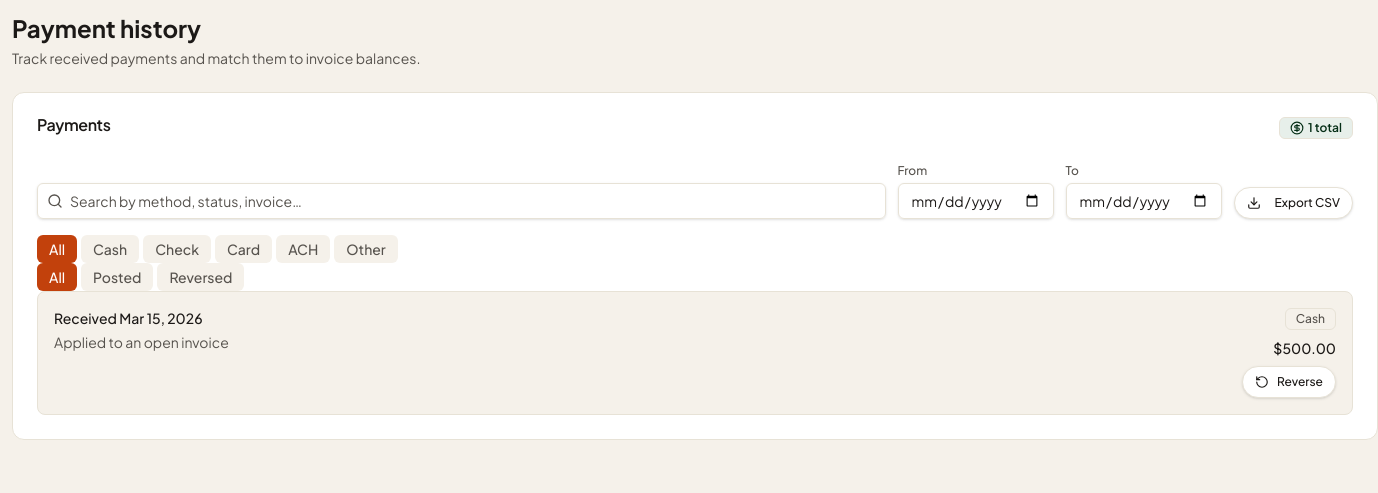
Test case: BillingPaymentsPage — UI rendering › shows result count badge when filters are active
The image size is (1378, 493).
Expected: the text "matching filters" is not shown
# Activate any filter
Click the button "Posted" at (117, 277), box [81, 263, 153, 291]
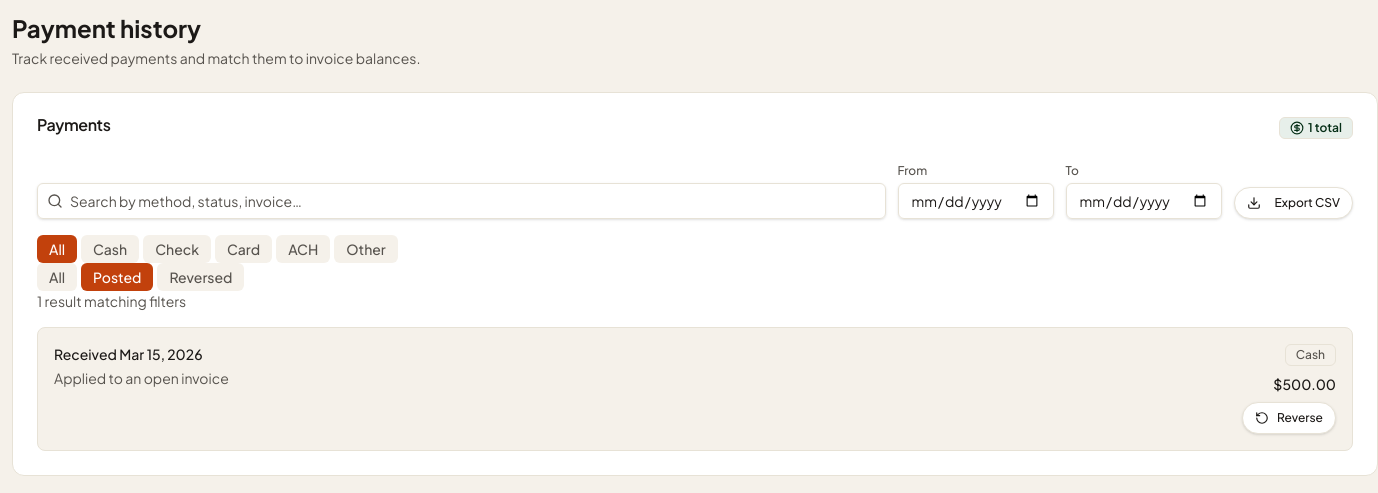
Expected: the text "1 result matching filters" is shown, [37, 292, 186, 310]
